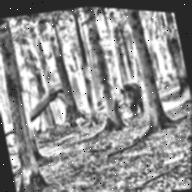boar: (114, 71, 149, 119)
